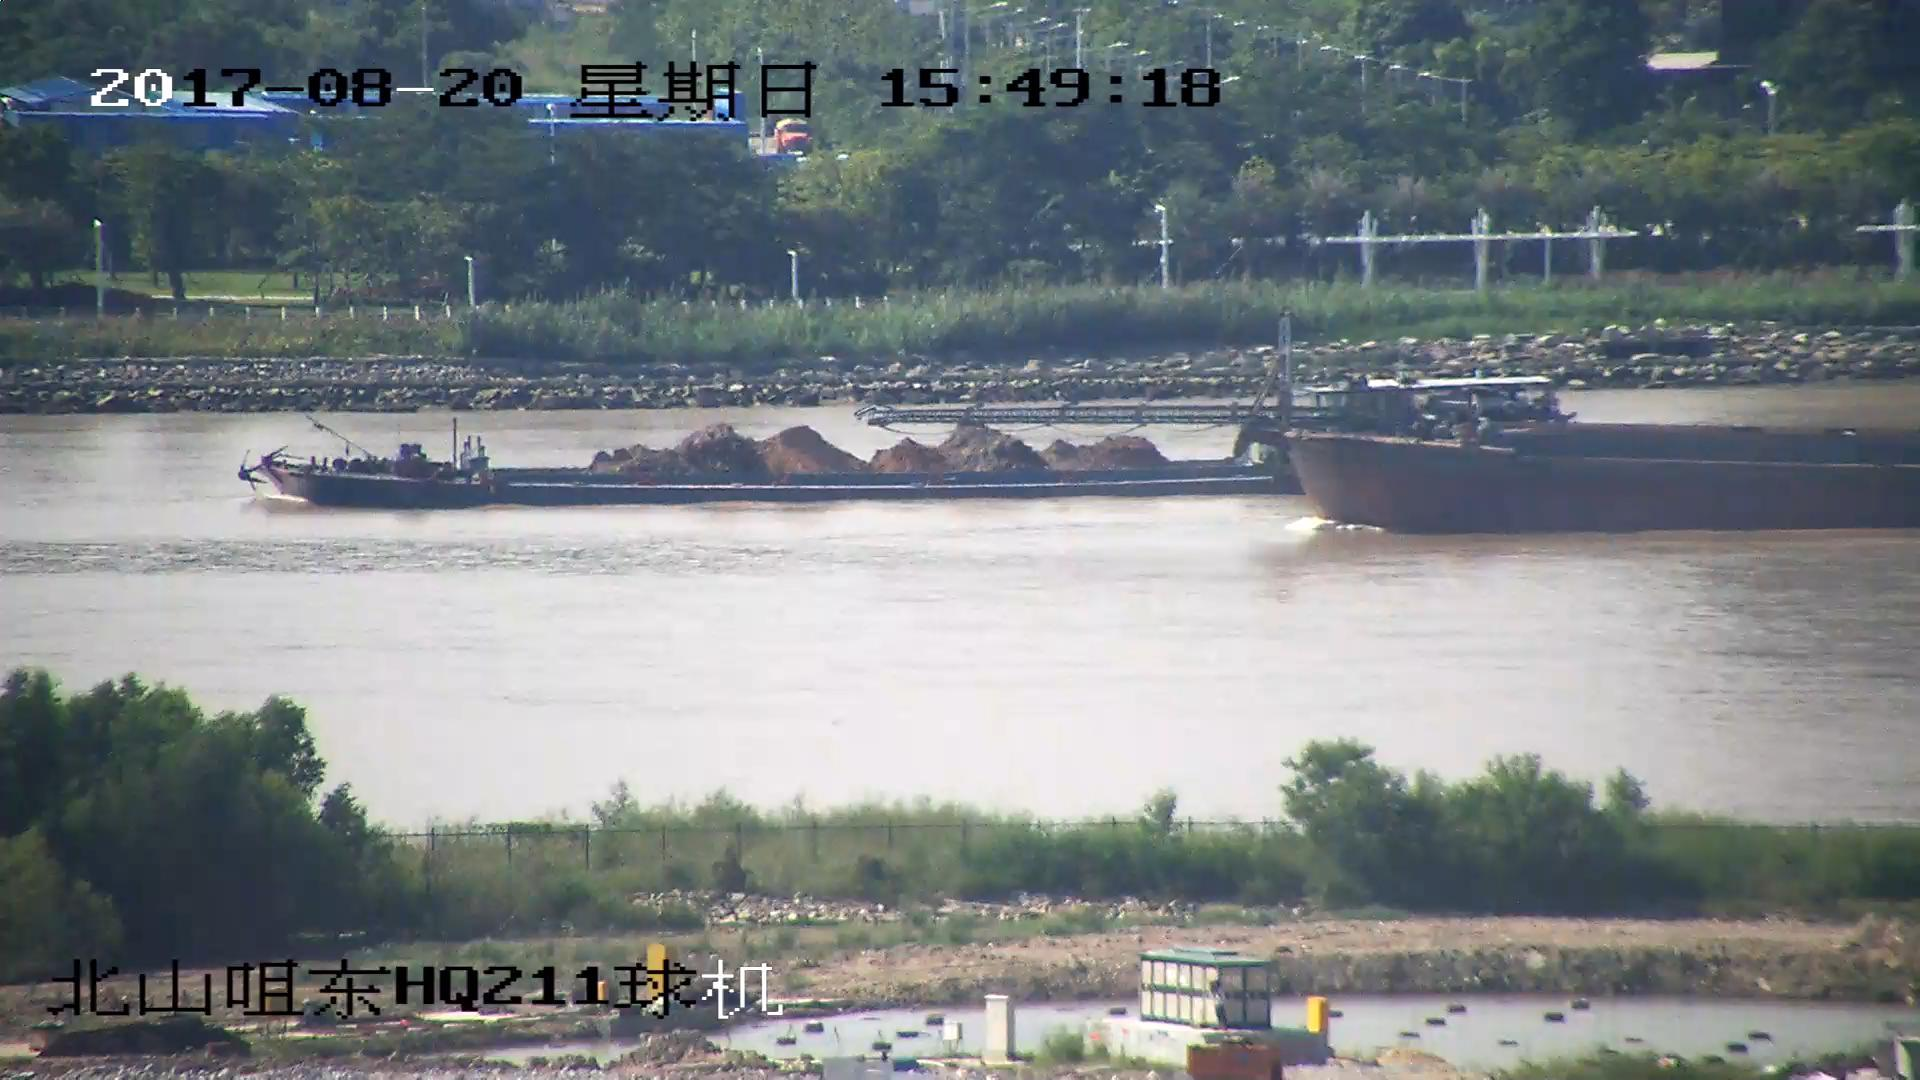Ship: (876, 326, 1920, 535), (237, 363, 1569, 516)
